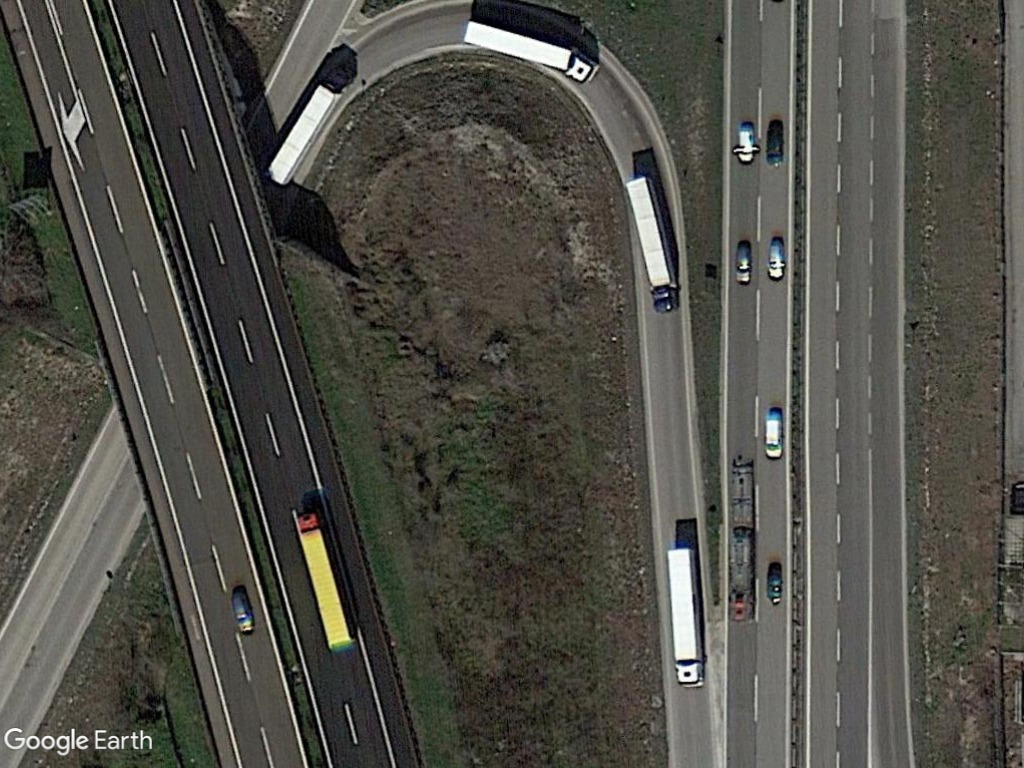car: (764, 416, 784, 461)
longvehicle: (457, 15, 603, 88), (260, 79, 345, 189), (292, 510, 356, 650), (622, 176, 684, 317), (662, 543, 709, 693)
